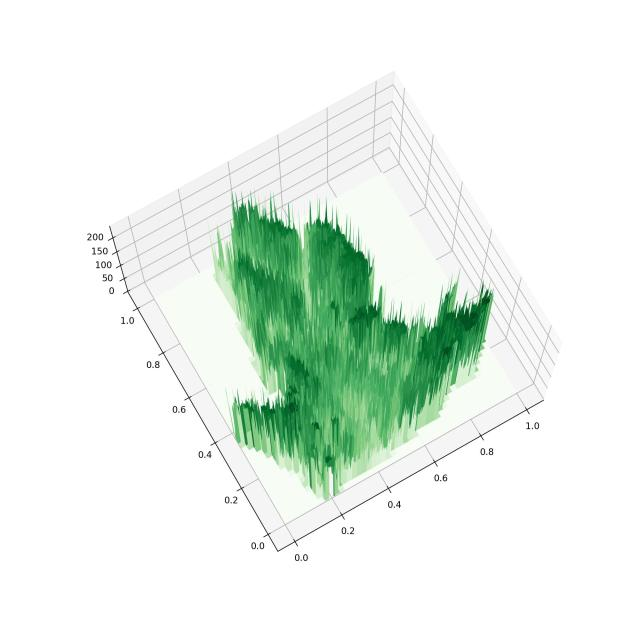trembling aspen: (60, 37, 609, 584)
